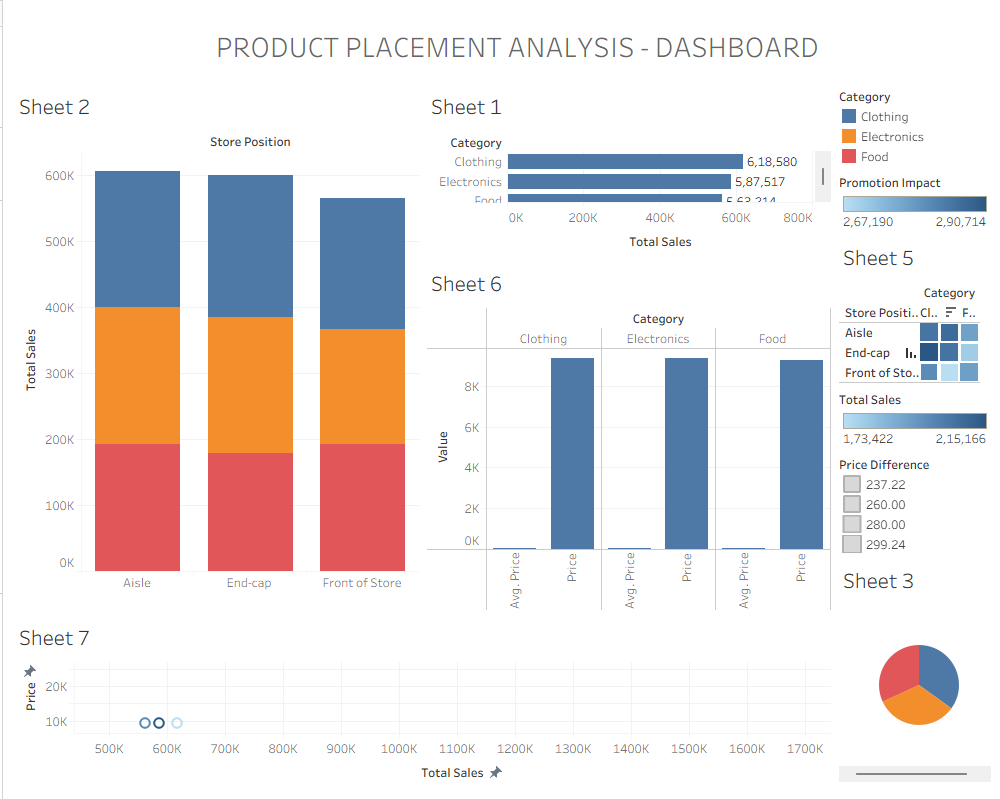

The dashboard page shown, as its layout file describes it:
{"tool":"tableau","page":{"name":"Dashboard 1","canvas":[1000,800],"ordinal":0},"visuals":[{"type":"text","box":[8,8,984,76]},{"type":"worksheet","title":"Sheet 2","mark":"Automatic","rows":["Sales Volume"],"cols":["Product Position"],"box":[8,84,412,531]},{"type":"worksheet","title":"Sheet 1","mark":"Automatic","rows":["Product Category"],"cols":["Sales Volume"],"box":[420,84,412,177]},{"type":"legend","title":"Sheet 2","param":"[federated.01uxr511n5bovg1cs3r7v10gsn40].[none:Product Category:nk]","box":[832,84,160,86]},{"type":"legend","title":"Sheet 7","param":"[federated.01uxr511n5bovg1cs3r7v10gsn40].[sum:Calculation_2373067242999810:qk]","box":[832,170,160,65]},{"type":"worksheet","title":"Sheet 5","mark":"Automatic","rows":["Product Position"],"cols":["Product Category"],"box":[832,235,160,152]},{"type":"worksheet","title":"Sheet 6","mark":"Automatic","cols":["Product Category"],"box":[420,261,412,354]},{"type":"legend","title":"Sheet 5","param":"[federated.01uxr511n5bovg1cs3r7v10gsn40].[sum:Sales Volume:qk]","box":[832,387,160,65]},{"type":"legend","title":"Sheet 5","param":"[federated.01uxr511n5bovg1cs3r7v10gsn40].[sum:Calculation_2373067242876929:qk]","box":[832,452,160,106]},{"type":"worksheet","title":"Sheet 3","mark":"Pie","box":[832,558,160,228]},{"type":"worksheet","title":"Sheet 7","mark":"Automatic","rows":["Price"],"cols":["Sales Volume"],"box":[8,615,824,177]}]}

Visuals, with their boxes in screenshot pixels (x1, y1, x2, y2), scaled from the page's 1000x800 canvas onto the 1000x799 screenshot:
text: bbox=(8, 8, 992, 84)
"Sheet 2" worksheet: bbox=(8, 84, 420, 614)
"Sheet 1" worksheet: bbox=(420, 84, 832, 261)
"Sheet 2" legend: bbox=(832, 84, 992, 170)
"Sheet 7" legend: bbox=(832, 170, 992, 235)
"Sheet 5" worksheet: bbox=(832, 235, 992, 387)
"Sheet 6" worksheet: bbox=(420, 261, 832, 614)
"Sheet 5" legend: bbox=(832, 387, 992, 451)
"Sheet 5" legend: bbox=(832, 451, 992, 557)
"Sheet 3" worksheet (Pie marks): bbox=(832, 557, 992, 785)
"Sheet 7" worksheet: bbox=(8, 614, 832, 791)
